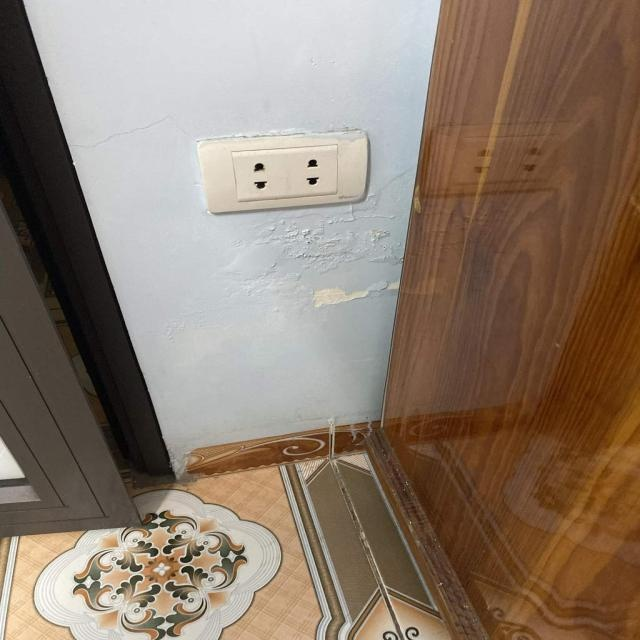outlet: (195, 128, 369, 214)
